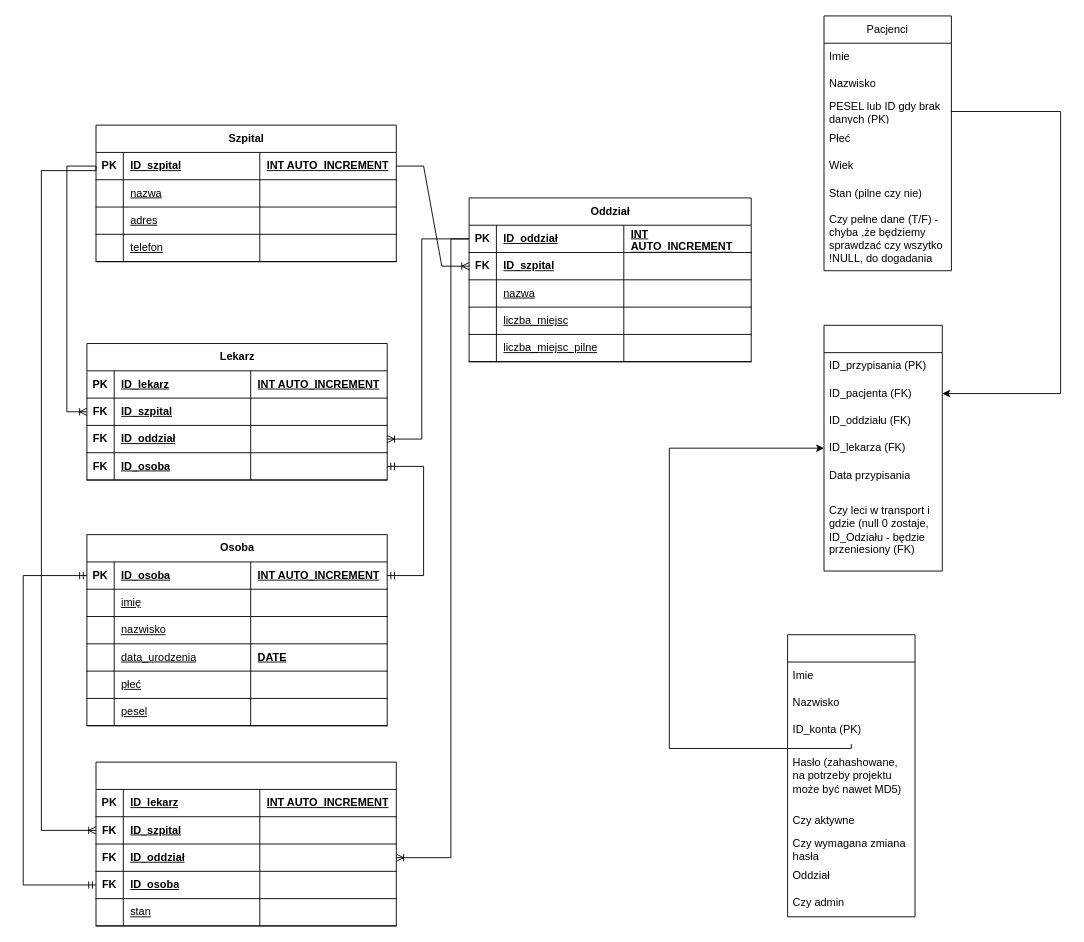
The diagram is 1084 pixels wide and 942 high, and some of its shapes have lost their labels. The shapes that lost their labels are listed below. From the top down, each one's box as (x1, y1, x2, y2) in pixels, then its label:
(823, 324, 942, 571): Przypisanie
(787, 634, 915, 917): Konta lekarzy - szpital 1
(95, 761, 396, 926): Pacjent
